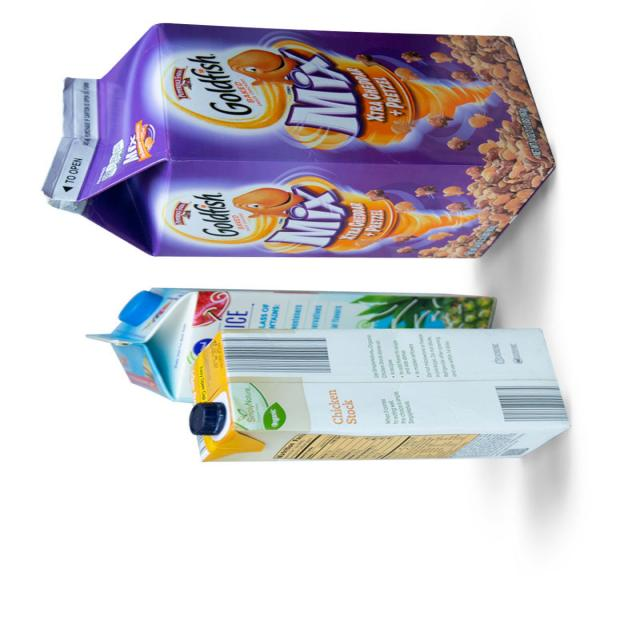non_white_jug: (48, 22, 556, 262), (179, 331, 573, 459), (90, 285, 500, 344)
